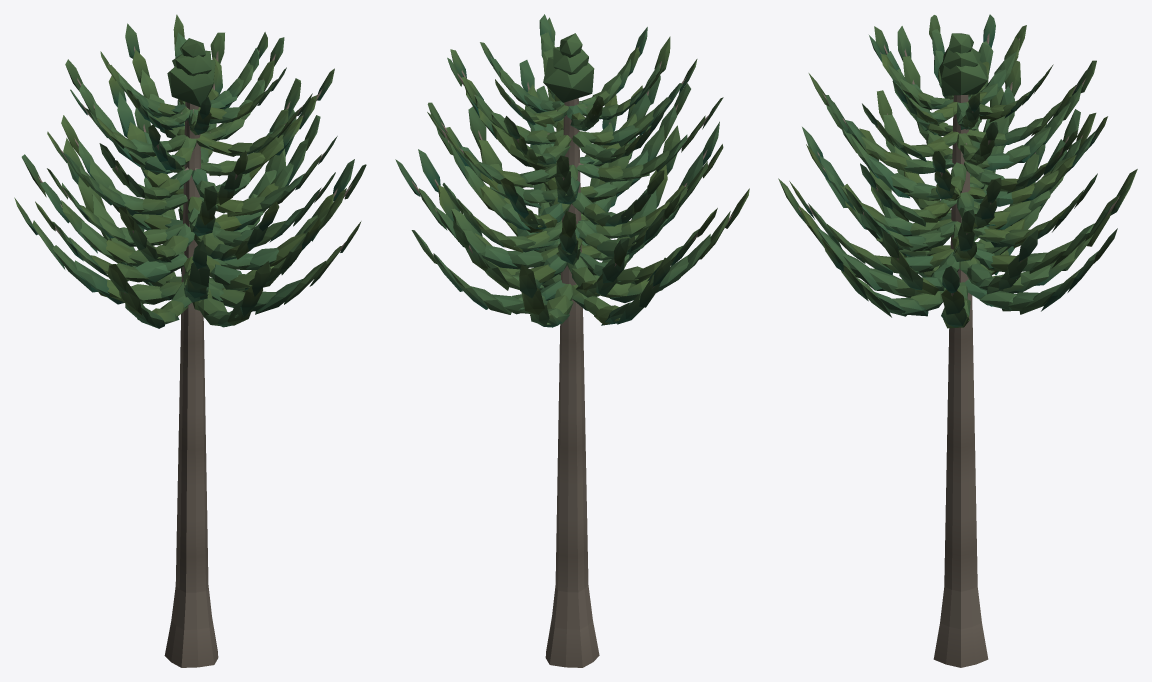
Rendered from araucaria_b.glb.
The picture shows the model from 3 angles, left to right: view 1: azimuth 30°, elevation 25°; view 2: azimuth 150°, elevation 25°; view 3: azimuth 270°, elevation 25°; orthographic projection.
Parts seen in each view (by area): view 1: araucaria_b; view 2: araucaria_b; view 3: araucaria_b.
Part boxes in pixels (<box>): araucaria_b: <box>14,14,366,667</box>; araucaria_b: <box>395,14,749,667</box>; araucaria_b: <box>778,14,1137,667</box>.
Size of the model in its own units: 7.09 by 13.52 by 7.09.
